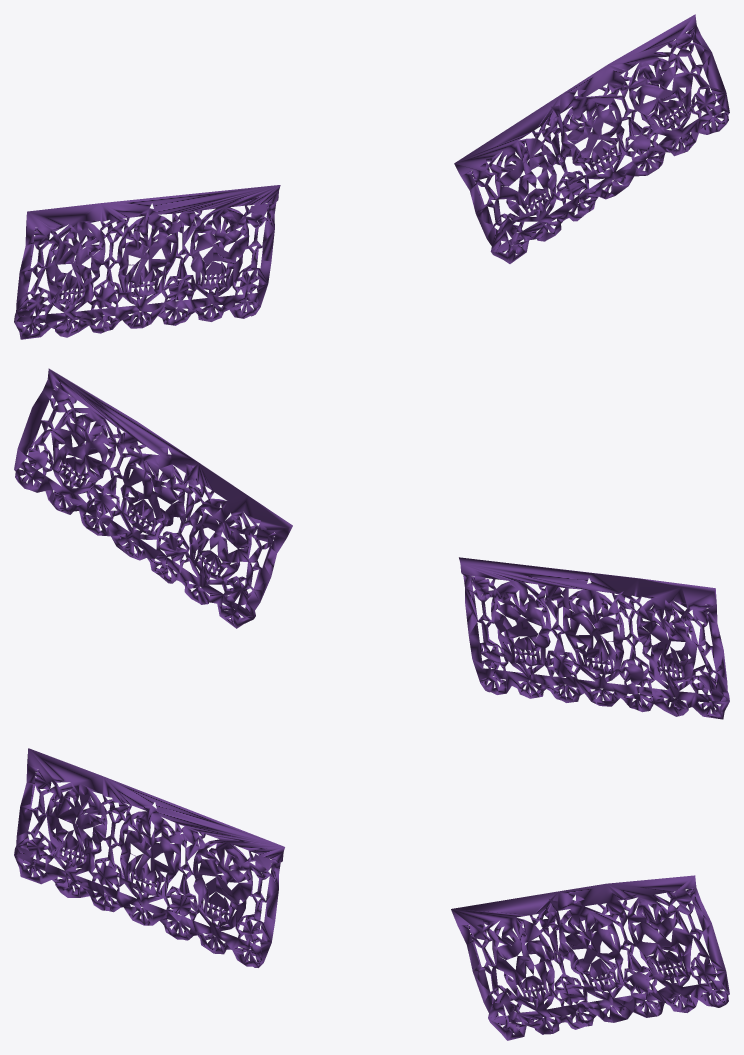
File: papel_morado.obj
3 views of the same model, one above another, from view 1: azimuth 30°, elevation 25°; view 2: azimuth 150°, elevation 25°; view 3: azimuth 330°, elevation 25° (orthographic). The views are drawn at different scales.
Visible parts, largest first — view 1: papel_morado; view 2: papel_morado; view 3: papel_morado.
Boxes of the visible parts, x1=… form: papel_morado: x1=14, y1=14, x2=729, y2=339; papel_morado: x1=14, y1=368, x2=729, y2=719; papel_morado: x1=14, y1=748, x2=729, y2=1040.
Bounding box in the file's own units: 2.15 × 0.6011 × 0.0589.
Materials: 1 (1 with a texture image).
